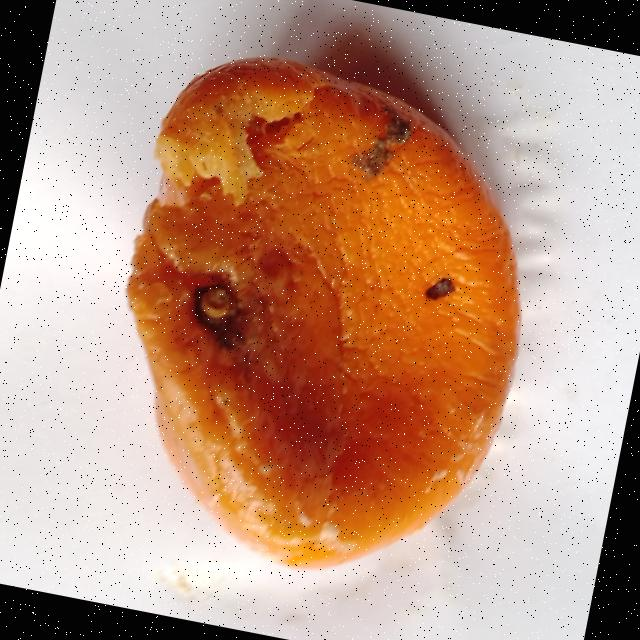Rotten: (78, 36, 568, 602)
